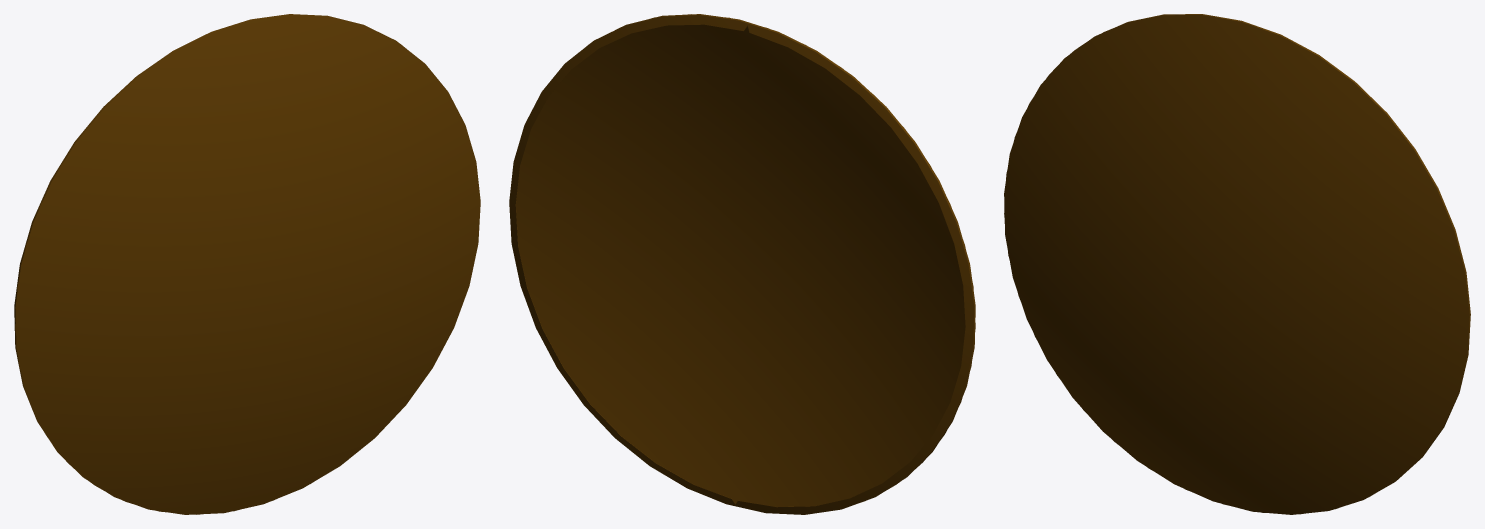
The model's file is plaque 2 balancier.obj.
3 renders of one model, left to right at view 1: azimuth 30°, elevation 25°; view 2: azimuth 150°, elevation 25°; view 3: azimuth 330°, elevation 25°, orthographic.
Parts seen in each view (by area): view 1: Face_10, Face_9; view 2: Face_2, Face_7, Face_9, Face_8, Face_3; view 3: Face_10, Face_9.
Boxes of the visible parts, <box> form: Face_10: <box>15,15,480,514</box>; Face_9: <box>14,14,395,476</box>; Face_2: <box>516,24,965,506</box>; Face_7: <box>509,15,974,514</box>; Face_9: <box>594,14,975,476</box>; Face_8: <box>509,15,974,514</box>; Face_3: <box>616,14,975,501</box>; Face_10: <box>1004,15,1469,514</box>; Face_9: <box>1094,14,1470,476</box>.
Size of the model in its own units: 0.2651 by 0.265 by 0.0221.
